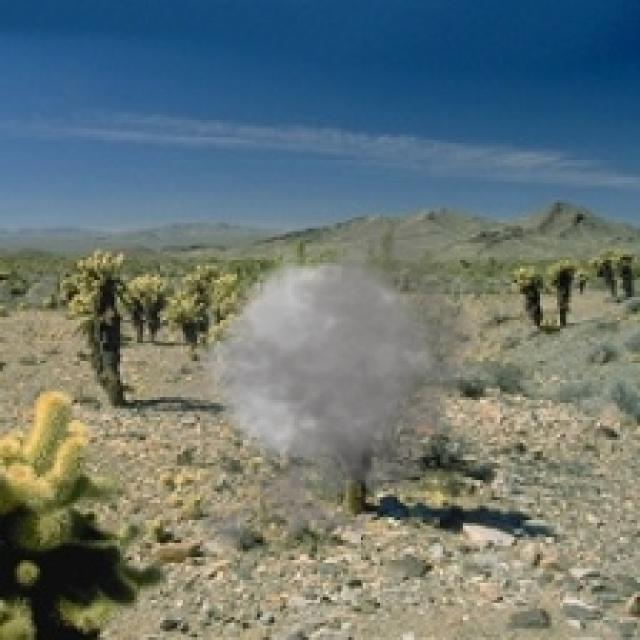smoke: (140, 200, 500, 560)
